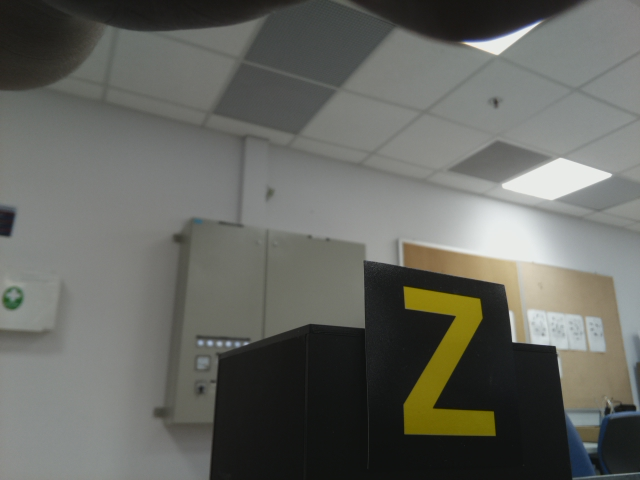z: (392, 273, 500, 442)
